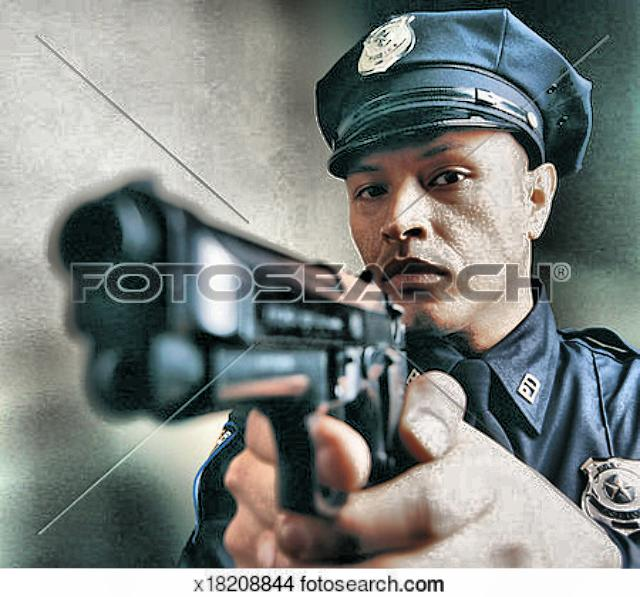pistol: (57, 176, 413, 520)
